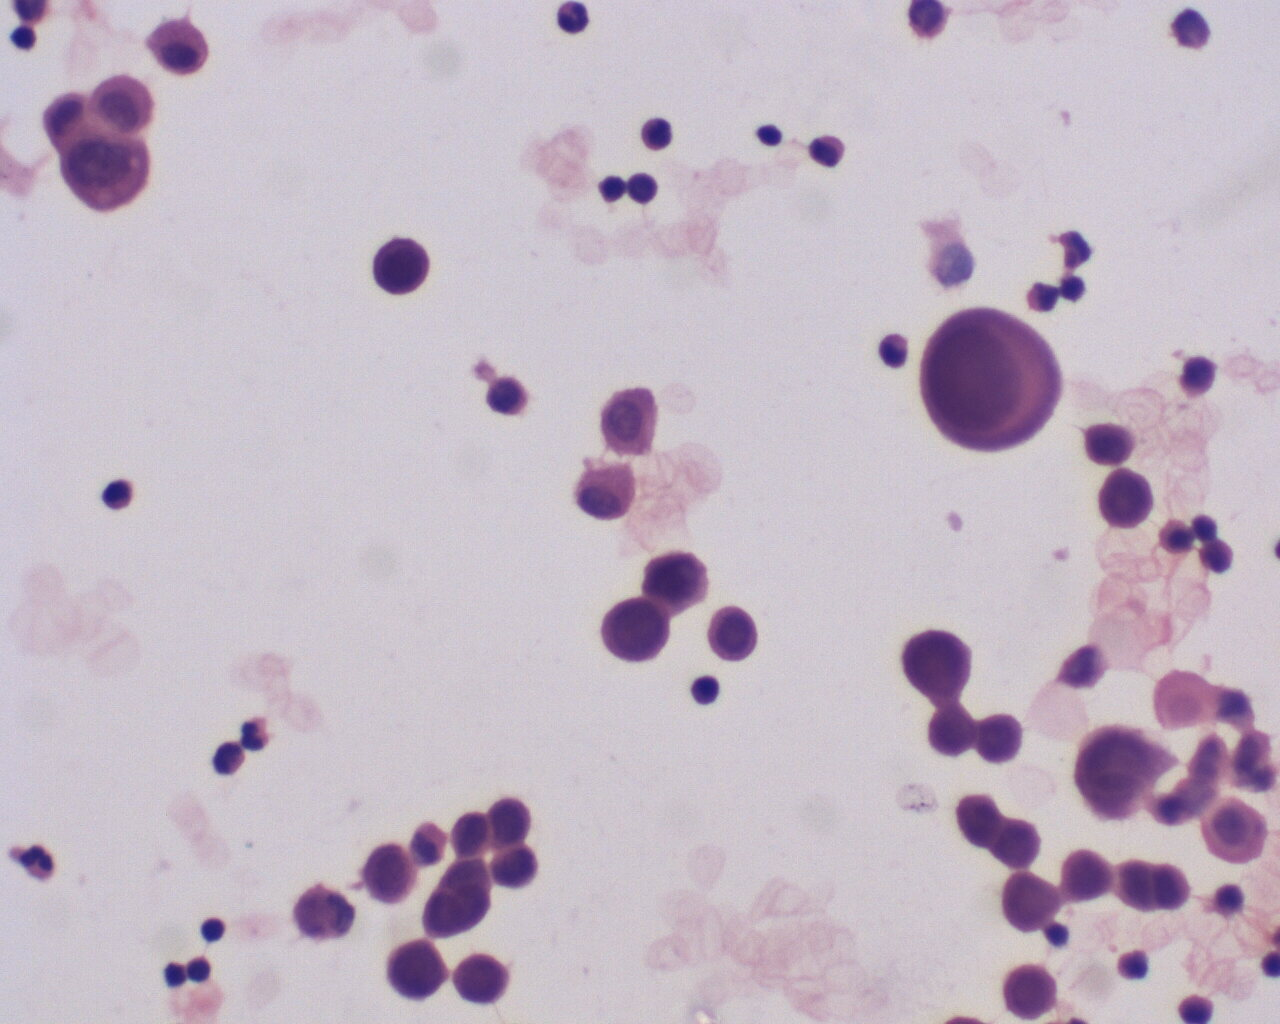ab: (909, 299, 1066, 453), (1071, 719, 1164, 825), (53, 125, 157, 217), (897, 623, 974, 695), (639, 545, 709, 618), (598, 596, 671, 664), (371, 230, 437, 302), (389, 933, 449, 1006), (999, 957, 1063, 1022), (1099, 465, 1157, 535), (1003, 870, 1063, 937), (451, 947, 514, 1008), (1058, 840, 1116, 907), (971, 707, 1030, 769)
lymph: (197, 908, 231, 945)
meso: (595, 385, 668, 462), (1203, 796, 1276, 865), (144, 14, 216, 78), (573, 463, 647, 523)
neutro: (17, 838, 60, 888), (551, 2, 596, 41), (872, 327, 910, 372), (237, 715, 277, 757)
